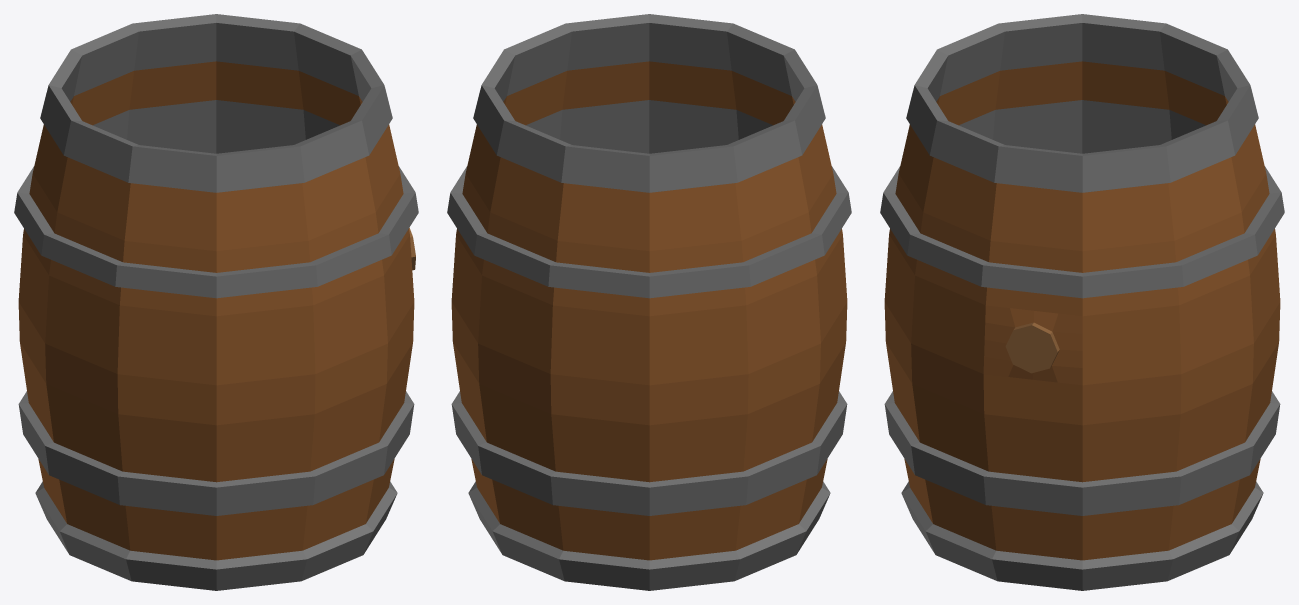
Rendered from barrel.fbx.
3 renders of one model, left to right at view 1: azimuth 30°, elevation 25°; view 2: azimuth 150°, elevation 25°; view 3: azimuth 270°, elevation 25°, orthographic.
Visible parts, largest first — view 1: Circle; view 2: Circle; view 3: Circle.
Boxes of the visible parts, x1=… form: Circle: x1=14, y1=14, x2=418, y2=590; Circle: x1=447, y1=14, x2=851, y2=590; Circle: x1=880, y1=14, x2=1284, y2=590.
Size of the model in its own units: 56.04 by 66.44 by 56.04.
